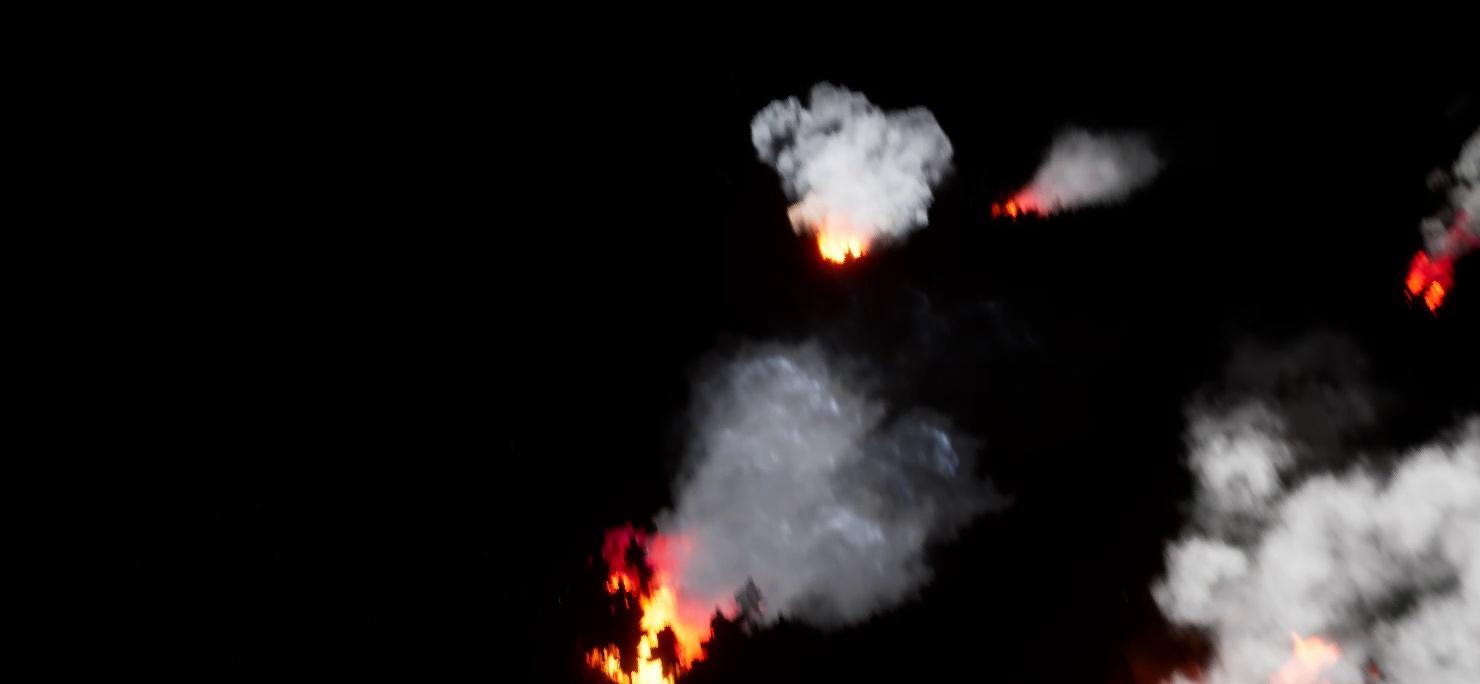fire: (589, 532, 722, 683), (1407, 219, 1471, 301), (1273, 629, 1353, 683), (817, 209, 871, 265), (991, 188, 1040, 219)
smoke: (1148, 388, 1479, 683), (665, 340, 981, 632), (748, 86, 955, 227), (1024, 129, 1158, 206), (1409, 134, 1479, 252)
